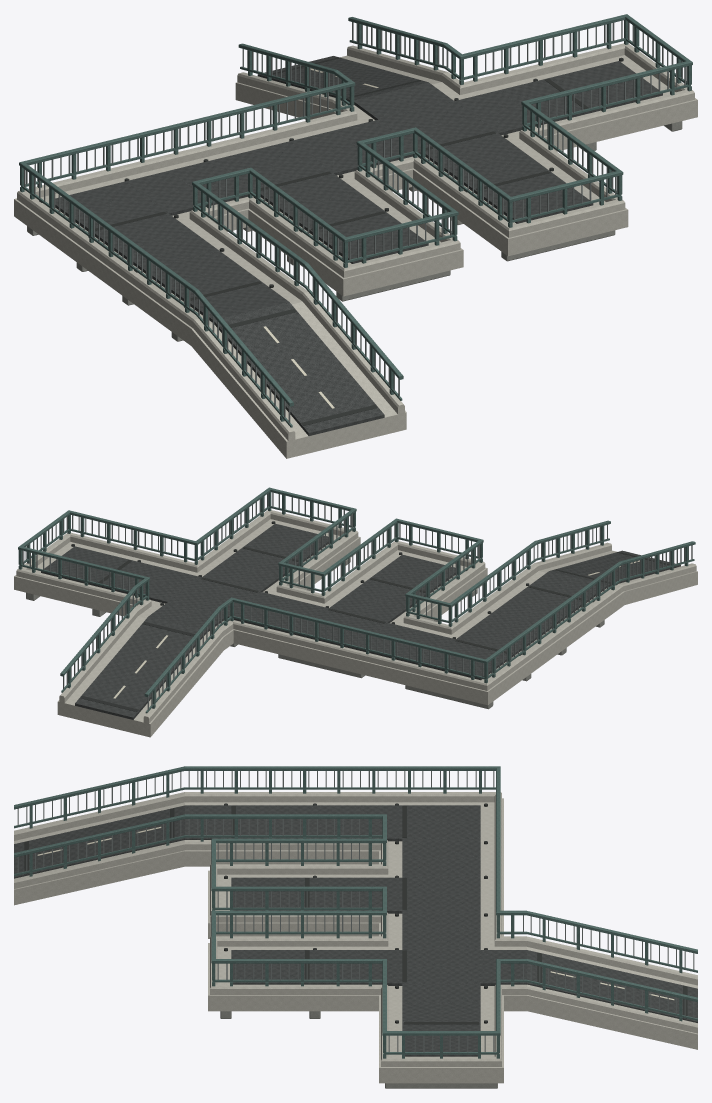
The model's file is assembly.glb.
3 renders of one model, top to bottom at view 1: azimuth 30°, elevation 25°; view 2: azimuth 150°, elevation 25°; view 3: azimuth 270°, elevation 25°, orthographic. The views are drawn at different scales.
Visible parts, largest first — view 1: BRG_LOCAL_RAMP_1x1_UP_050_Visual, BRG_LOCAL_DECK_1x1_END_Visual.001, BRG_LOCAL_DECK_1x1_END_Visual.002, BRG_LOCAL_DECK_1x1_END_Visual, BRG_LOCAL_DECK_1x1_T_Visual, BRG_LOCAL_DECK_1x1_CORNER_Visual, BRG_LOCAL_DECK_1x1_CROSS_Visual, BRG_LOCAL_DECK_1x1_STRAIGHT_Visual, BRG_LOCAL_RAMP_1x1_DOWN_050_Visual; view 2: BRG_LOCAL_RAMP_1x1_DOWN_050_Visual, BRG_LOCAL_DECK_1x1_T_Visual, BRG_LOCAL_DECK_1x1_CORNER_Visual, BRG_LOCAL_DECK_1x1_END_Visual.002, BRG_LOCAL_DECK_1x1_CROSS_Visual, BRG_LOCAL_DECK_1x1_STRAIGHT_Visual, BRG_LOCAL_DECK_1x1_END_Visual.001, BRG_LOCAL_DECK_1x1_END_Visual, BRG_LOCAL_RAMP_1x1_UP_050_Visual; view 3: BRG_LOCAL_RAMP_1x1_UP_050_Visual, BRG_LOCAL_RAMP_1x1_DOWN_050_Visual, BRG_LOCAL_DECK_1x1_END_Visual.001, BRG_LOCAL_DECK_1x1_STRAIGHT_Visual, BRG_LOCAL_DECK_1x1_CROSS_Visual, BRG_LOCAL_DECK_1x1_END_Visual, BRG_LOCAL_DECK_1x1_CORNER_Visual, BRG_LOCAL_DECK_1x1_END_Visual.002, BRG_LOCAL_DECK_1x1_T_Visual.
Part boxes in pixels (left/top/right/bottom): BRG_LOCAL_RAMP_1x1_UP_050_Visual: left=191, top=263, right=406, bottom=458; BRG_LOCAL_DECK_1x1_END_Visual.001: left=425, top=113, right=628, bottom=261; BRG_LOCAL_DECK_1x1_END_Visual.002: left=488, top=14, right=697, bottom=152; BRG_LOCAL_DECK_1x1_END_Visual: left=261, top=153, right=463, bottom=301; BRG_LOCAL_DECK_1x1_T_Visual: left=159, top=88, right=390, bottom=231; BRG_LOCAL_DECK_1x1_CORNER_Visual: left=14, top=128, right=225, bottom=275; BRG_LOCAL_DECK_1x1_CROSS_Visual: left=323, top=43, right=555, bottom=193; BRG_LOCAL_DECK_1x1_STRAIGHT_Visual: left=96, top=193, right=307, bottom=345; BRG_LOCAL_RAMP_1x1_DOWN_050_Visual: left=235, top=17, right=447, bottom=119; BRG_LOCAL_RAMP_1x1_DOWN_050_Visual: left=57, top=586, right=223, bottom=737; BRG_LOCAL_DECK_1x1_T_Visual: left=251, top=564, right=429, bottom=678; BRG_LOCAL_DECK_1x1_CORNER_Visual: left=378, top=595, right=551, bottom=709; BRG_LOCAL_DECK_1x1_END_Visual.002: left=14, top=510, right=175, bottom=616; BRG_LOCAL_DECK_1x1_CROSS_Visual: left=124, top=532, right=302, bottom=649; BRG_LOCAL_DECK_1x1_STRAIGHT_Visual: left=461, top=541, right=624, bottom=658; BRG_LOCAL_DECK_1x1_END_Visual.001: left=207, top=487, right=360, bottom=590; BRG_LOCAL_DECK_1x1_END_Visual: left=334, top=518, right=487, bottom=621; BRG_LOCAL_RAMP_1x1_UP_050_Visual: left=534, top=520, right=697, bottom=604; BRG_LOCAL_RAMP_1x1_UP_050_Visual: left=14, top=766, right=184, bottom=905; BRG_LOCAL_RAMP_1x1_DOWN_050_Visual: left=527, top=911, right=697, bottom=1049; BRG_LOCAL_DECK_1x1_END_Visual.001: left=208, top=910, right=355, bottom=1018; BRG_LOCAL_DECK_1x1_STRAIGHT_Visual: left=185, top=766, right=355, bottom=866; BRG_LOCAL_DECK_1x1_CROSS_Visual: left=356, top=899, right=526, bottom=1011; BRG_LOCAL_DECK_1x1_END_Visual: left=208, top=838, right=355, bottom=938; BRG_LOCAL_DECK_1x1_CORNER_Visual: left=356, top=766, right=503, bottom=864; BRG_LOCAL_DECK_1x1_END_Visual.002: left=379, top=971, right=503, bottom=1088; BRG_LOCAL_DECK_1x1_T_Visual: left=356, top=827, right=503, bottom=936.
Size of the model in its own units: 7.46 by 1.14 by 8.
Materials: 54 (34 with a texture image).
